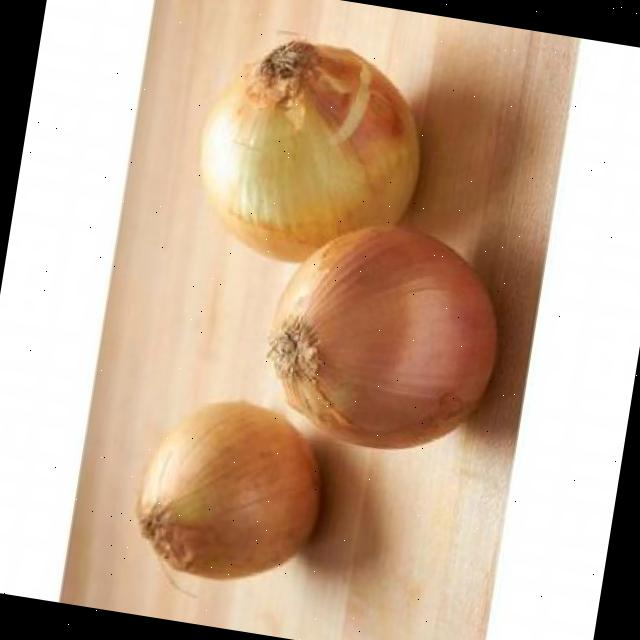Onion: (268, 225, 498, 448), (200, 38, 420, 261), (137, 400, 321, 580)
